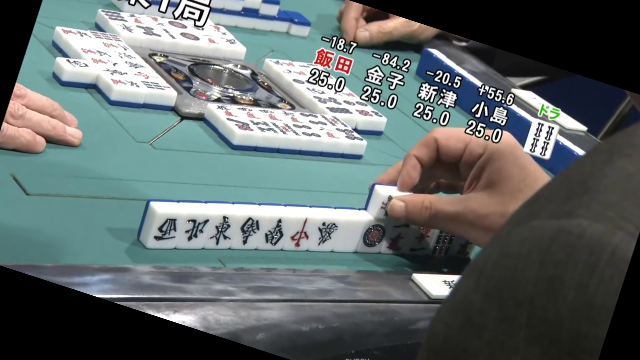Tehai: (140, 198, 486, 261)
